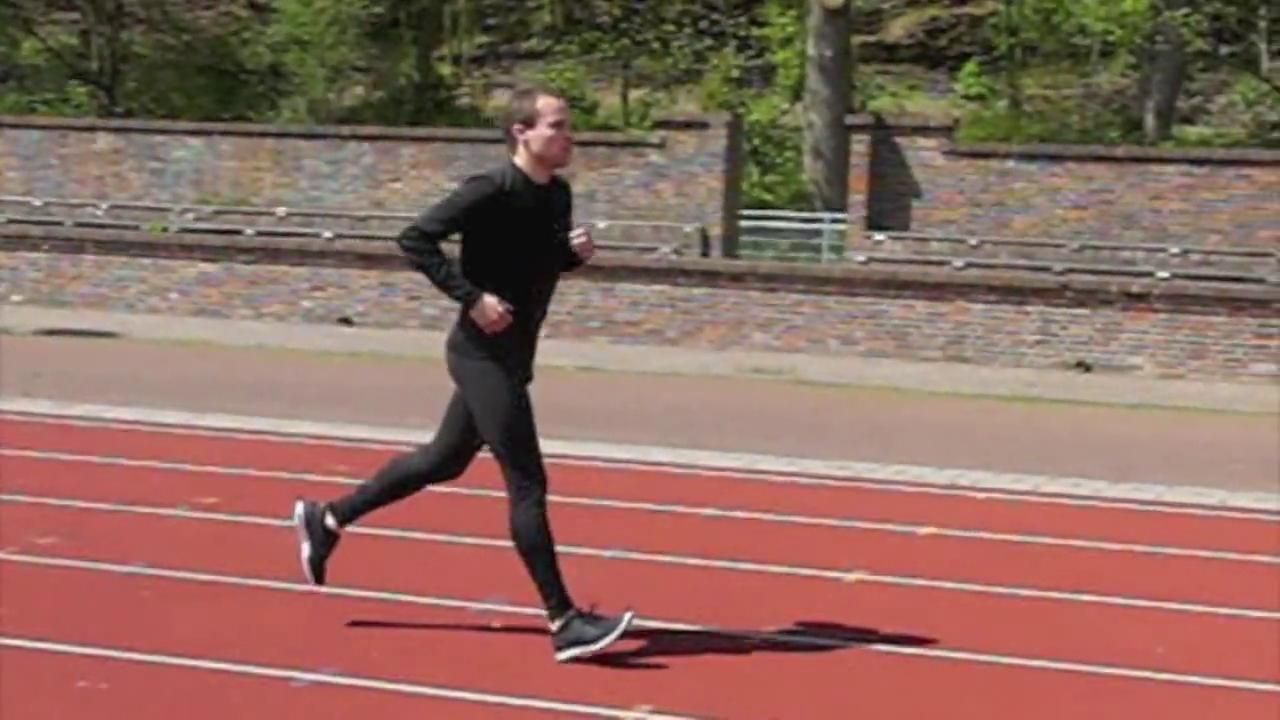victim: (280, 82, 638, 670)
